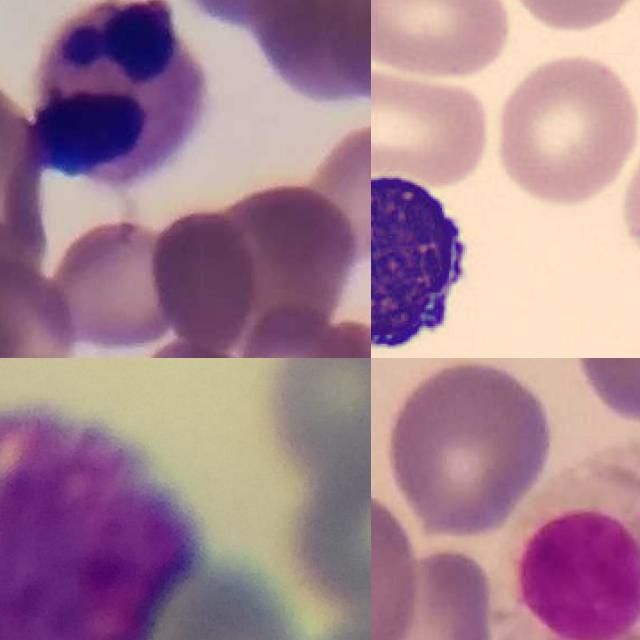Basophil: (0, 405, 194, 640)
Eosinophil: (512, 438, 640, 640)
Lymphocyte: (371, 160, 484, 358)
Neutrophil: (33, 0, 203, 182)
RBC: (489, 47, 640, 208), (371, 58, 493, 190), (371, 0, 514, 83), (496, 0, 640, 35), (614, 100, 640, 271)
